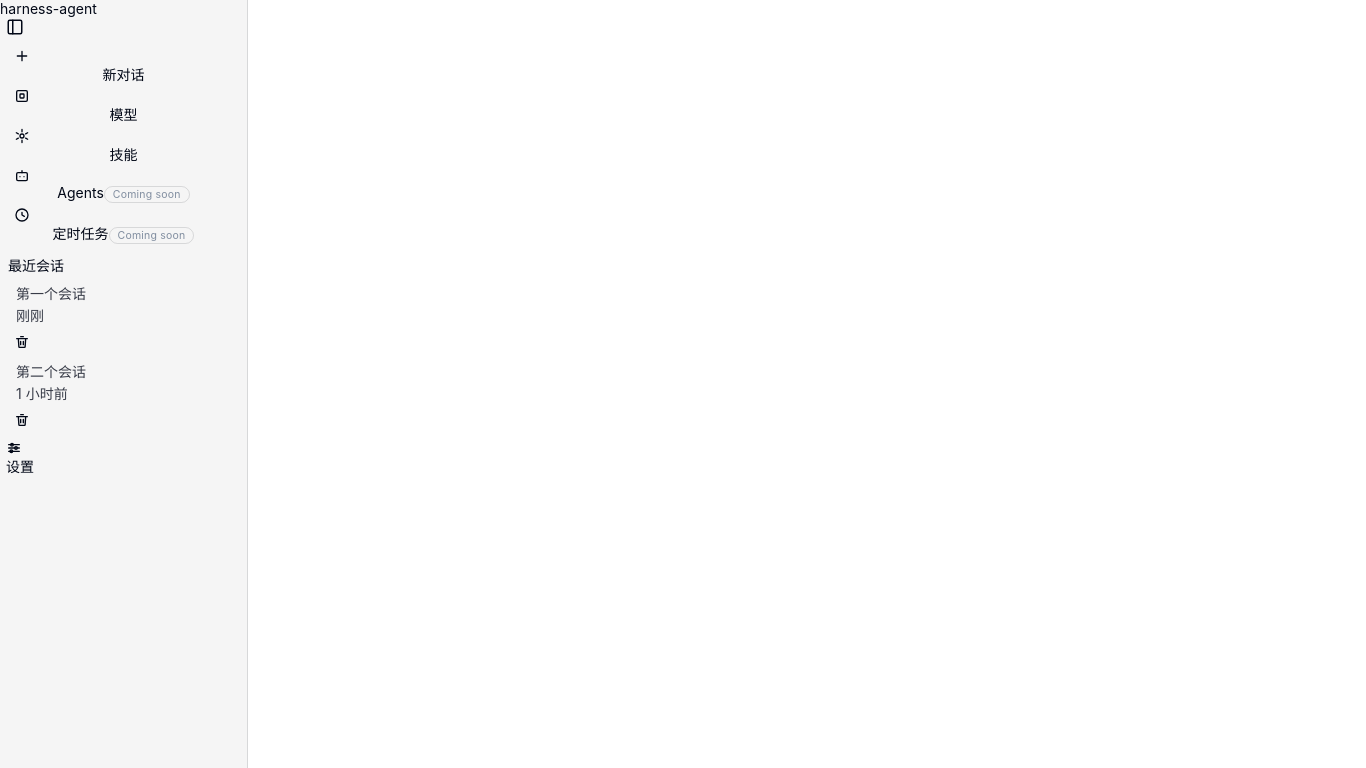
Test: Sidebar › keeps the history one click away when collapsed
This screenshot has width=1366, height=768.
Expected: the text "第一个会话" is shown, [16,283,86,303]
Click the button titled "收起侧边栏" at (15, 27), box [0,17,30,37]
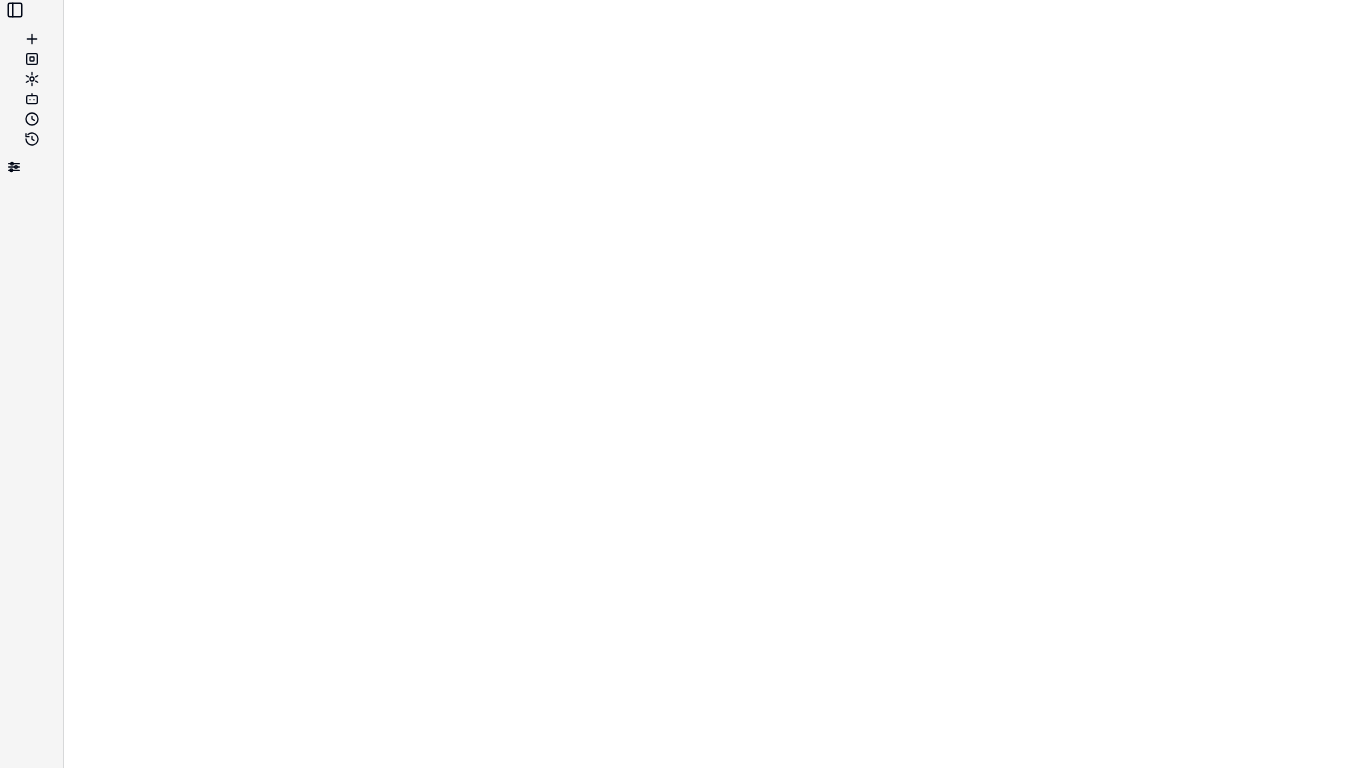
Note: The rail hides the list (CSS-only), so the icon has to open it again.
Click the button named "最近会话" at (32, 139), box [18,130,46,148]
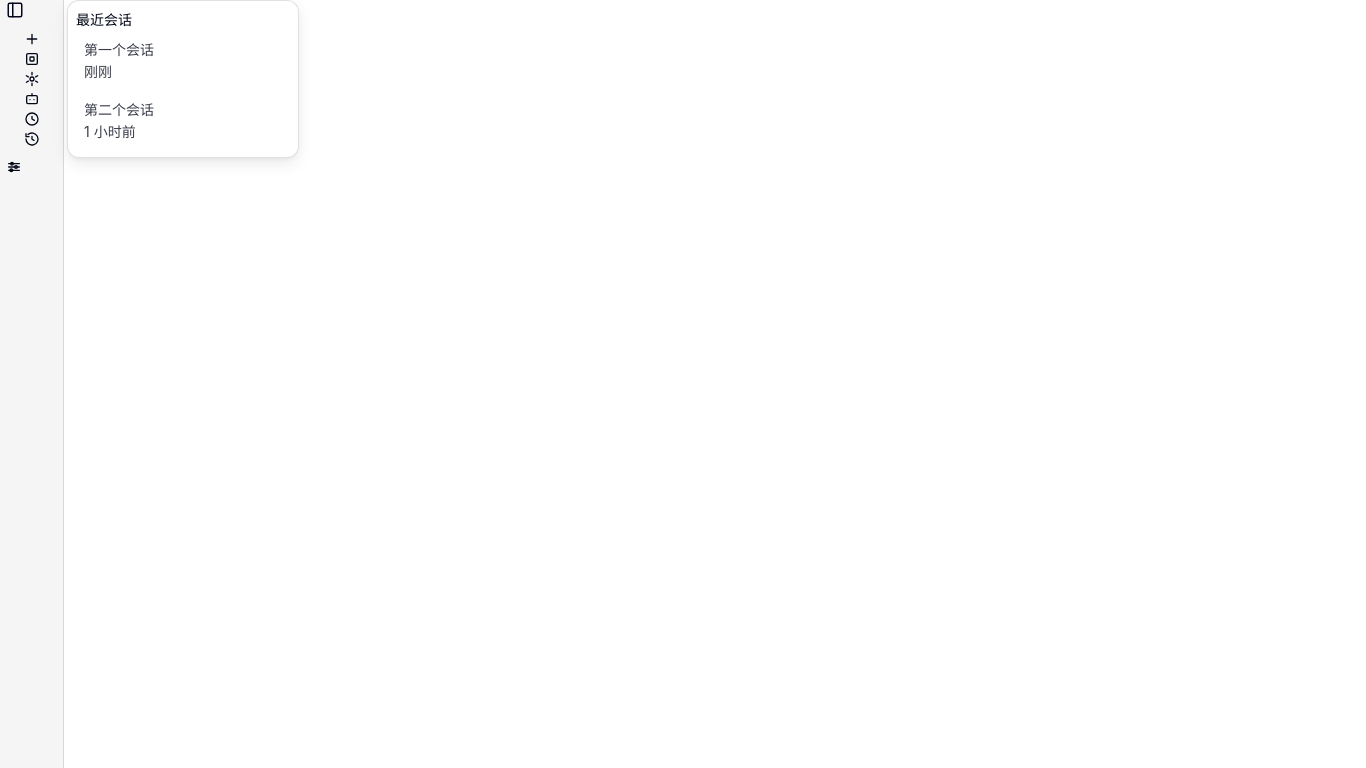
Click the text "第二个会话" at (119, 109), box [84,99,154,119]
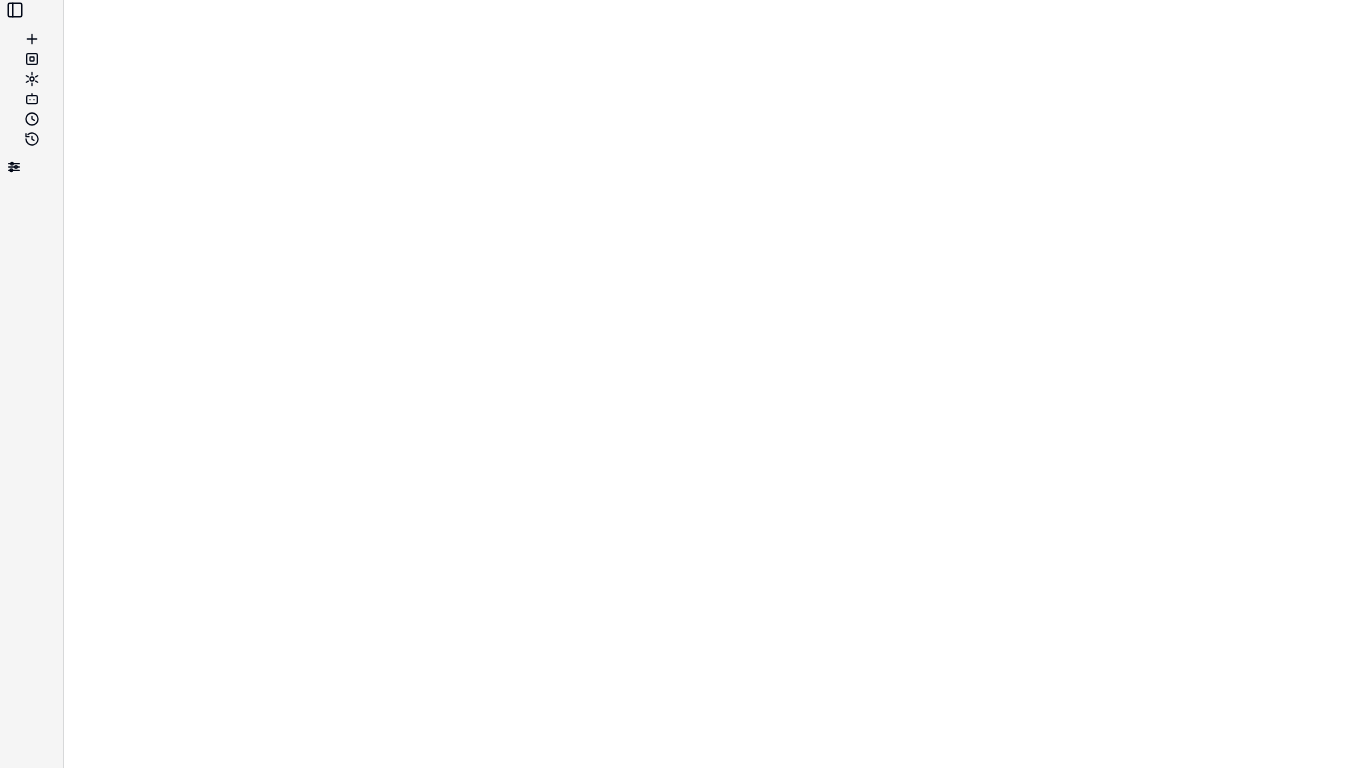
Now the text "最近会话" is gone
